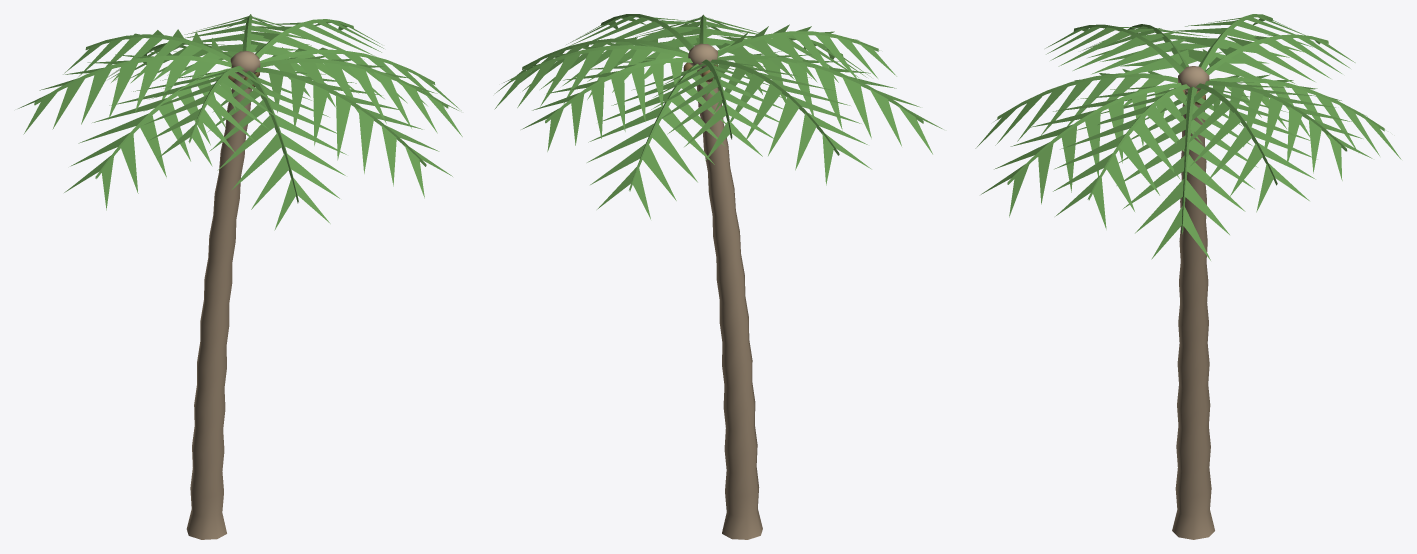
File: palm.glb
3 views of the same model, side by side, from view 1: azimuth 30°, elevation 25°; view 2: azimuth 150°, elevation 25°; view 3: azimuth 270°, elevation 25° (orthographic). The views are drawn at different scales.
Parts seen in each view (by area): view 1: Palm; view 2: Palm; view 3: Palm.
Boxes of the visible parts, <box> form: Palm: <box>18,14,462,539</box>; Palm: <box>494,14,943,539</box>; Palm: <box>975,14,1401,539</box>.
Bounding box in the file's own units: 5.77 × 6.5 × 5.15.
